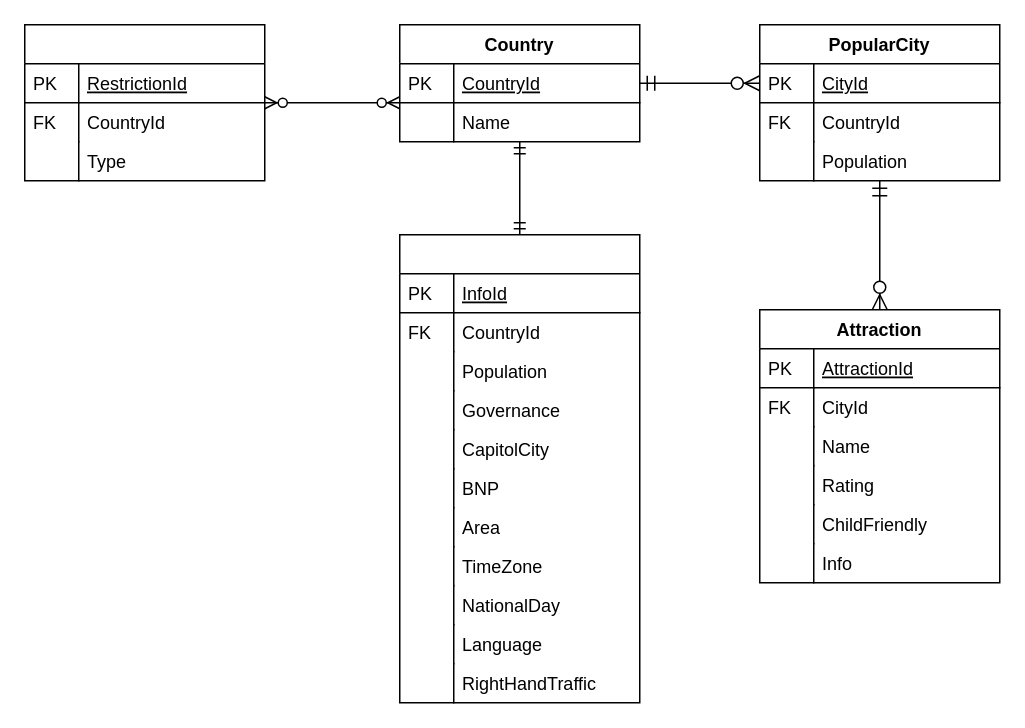
Image size: 1025x728. Some labels were removed from this diagram. The box of each missing label's shape, as (x1, y1, x2, y2) in pixels:
CountryInfo: (398, 233, 640, 703)
TravelRestriction: (23, 23, 265, 181)
